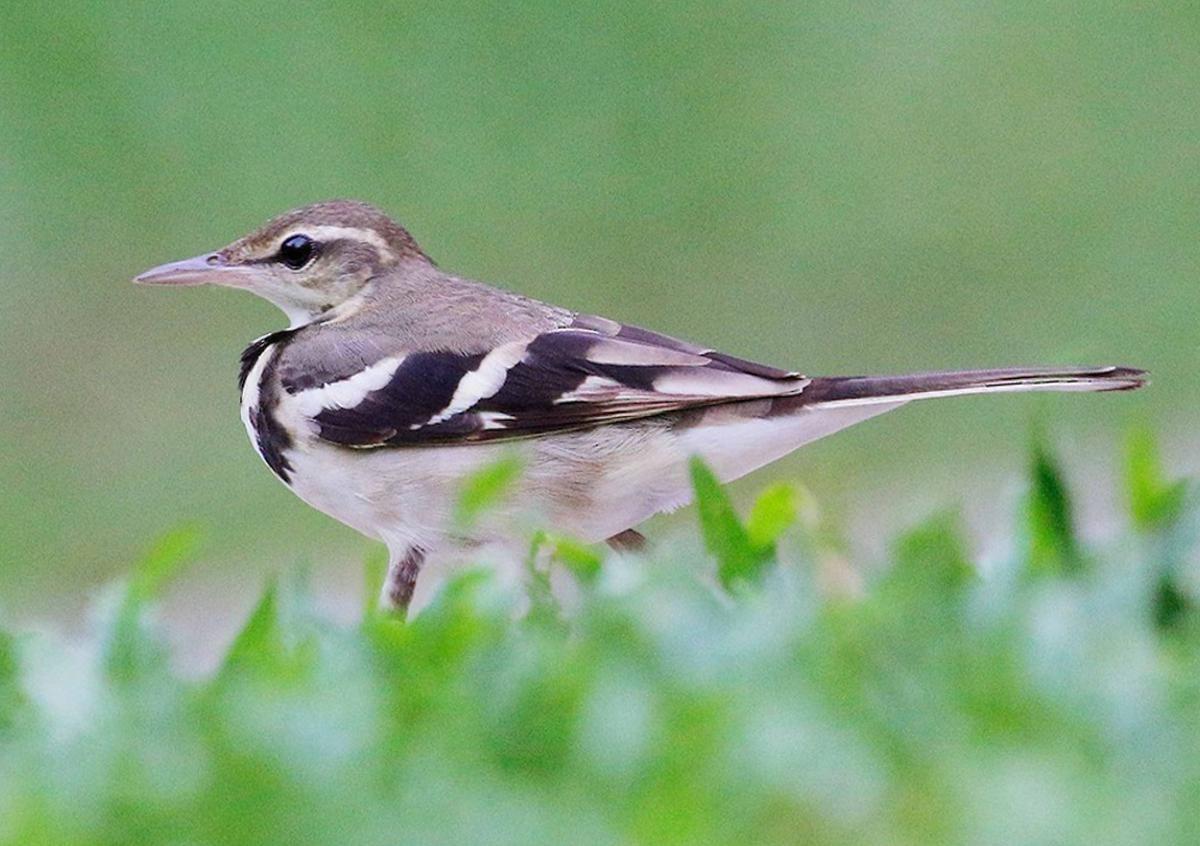wagtail: (178, 156, 983, 581)
